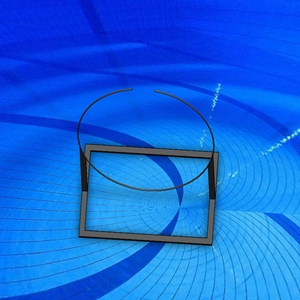circle: (76, 87, 220, 248)
